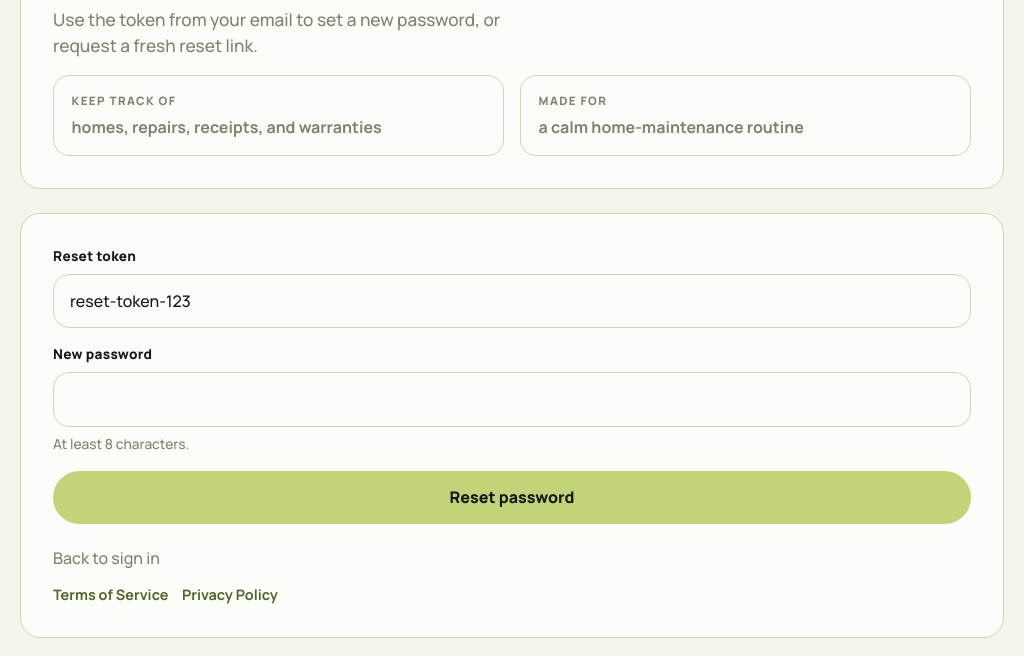
it: frontend workspace › password reset token mode confirms a new password
(page scrolled)
Expected: the field showing "reset-token-123" is shown, [53,274,971,328]
Type "NewStrongPass123!" into the password field labelled "New password" at {"x": 512, "y": 399}, box [53,372,971,427]
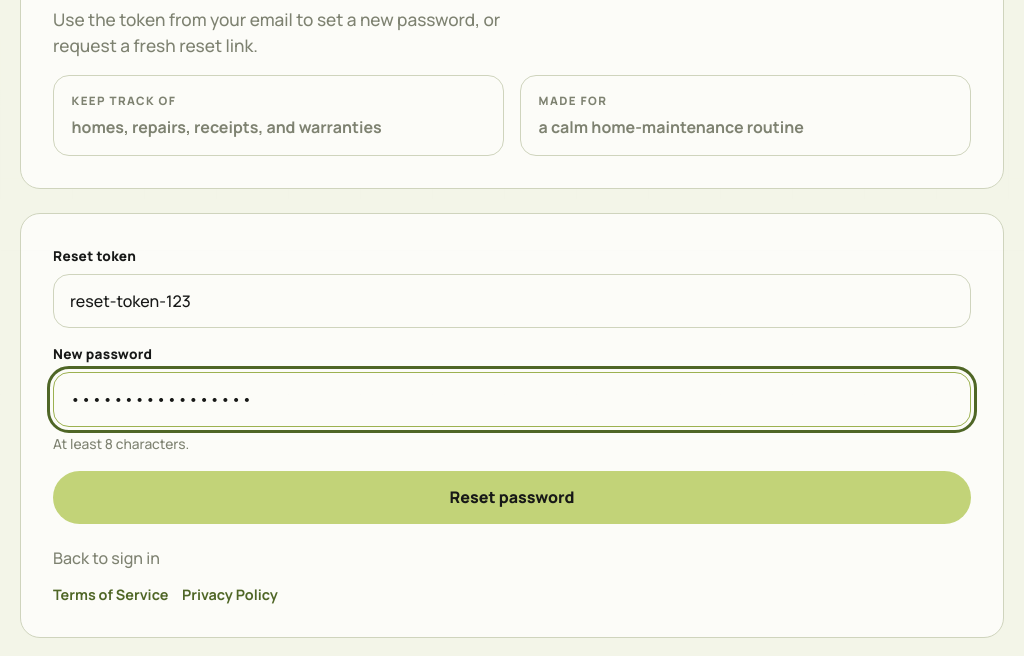
Click the button "Reset password" at {"x": 512, "y": 497}, box [53,470,971,524]
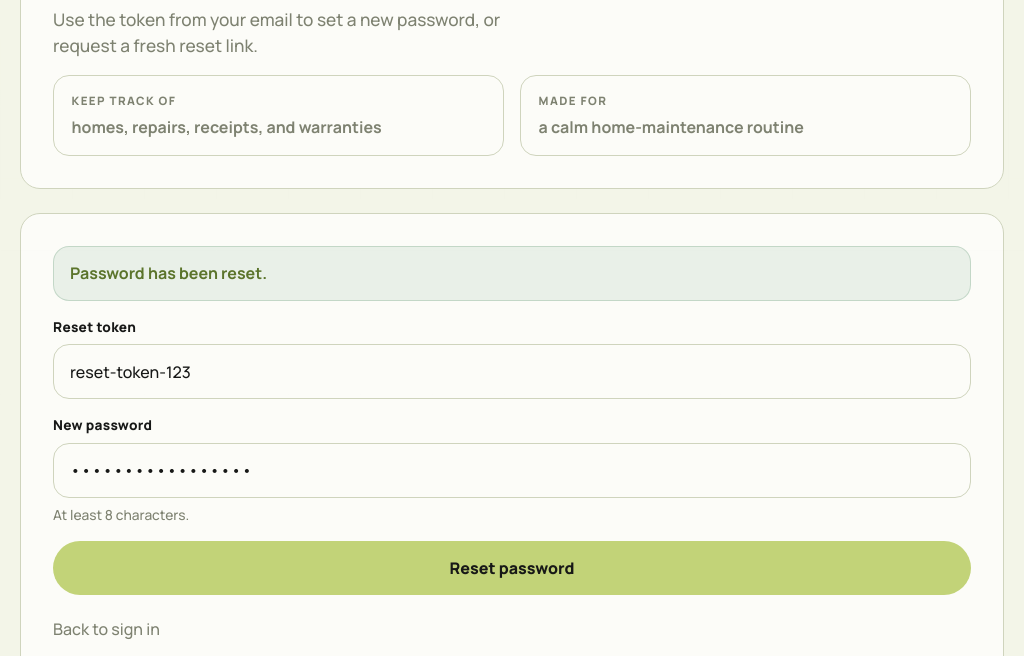
Expected: the text "Password has been reset." is shown, [53,246,971,301]
